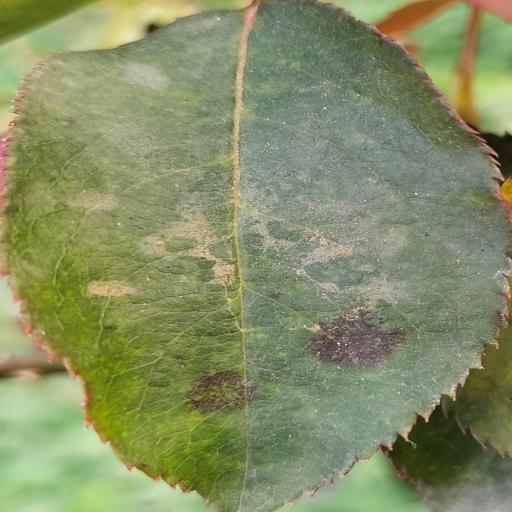black_spot: (3, 0, 512, 512)
